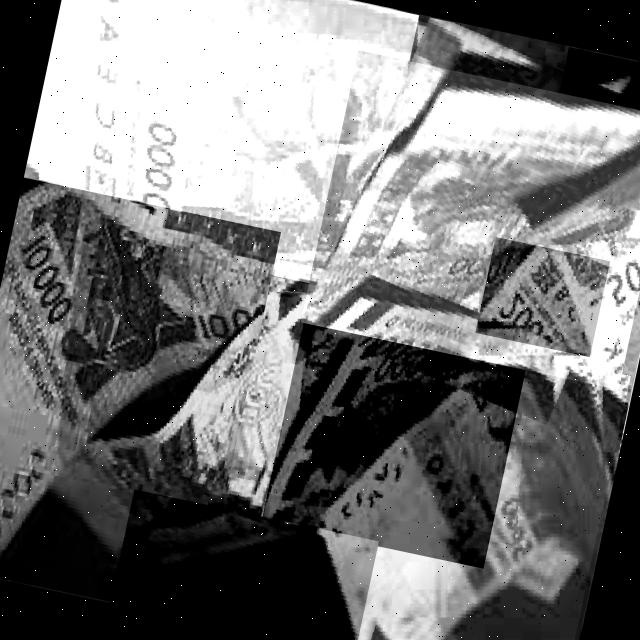junni: (317, 350, 602, 640), (262, 309, 532, 522), (530, 97, 640, 404)
niaar junni: (0, 183, 266, 549), (36, 0, 416, 254), (60, 290, 312, 535), (122, 510, 351, 640)
niaar teemeer: (302, 86, 640, 324)
nient teemeer: (479, 245, 591, 356)
